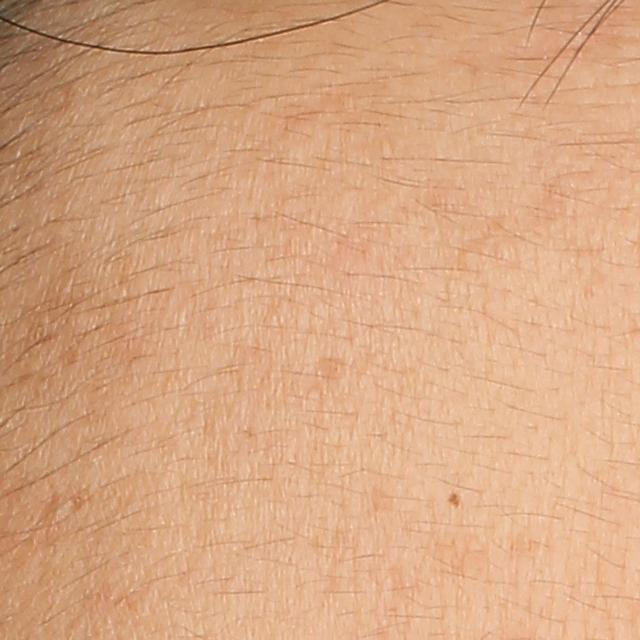nevus: (445, 491, 464, 511)
